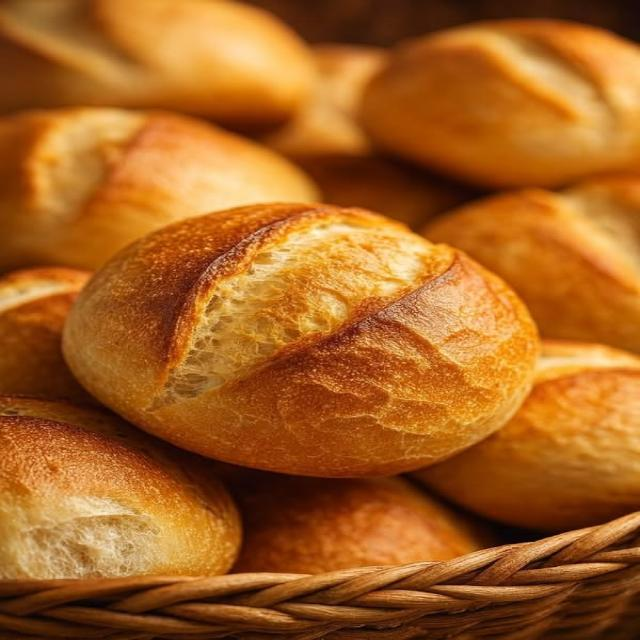bread: (63, 204, 537, 476), (0, 108, 316, 270), (362, 20, 639, 187), (0, 397, 239, 578), (416, 341, 639, 531), (0, 0, 313, 126), (424, 175, 639, 351), (262, 45, 468, 228), (230, 471, 490, 573), (263, 45, 387, 158), (299, 155, 472, 228), (0, 268, 89, 401)
